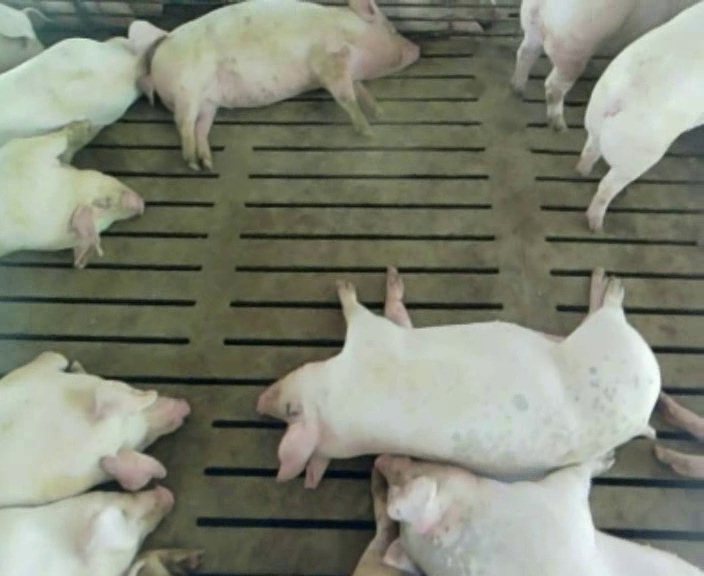pig: (257, 270, 660, 487), (150, 2, 418, 168), (577, 2, 703, 229), (511, 2, 688, 129), (0, 122, 143, 267), (0, 21, 165, 145), (0, 486, 173, 574), (0, 4, 50, 72)
